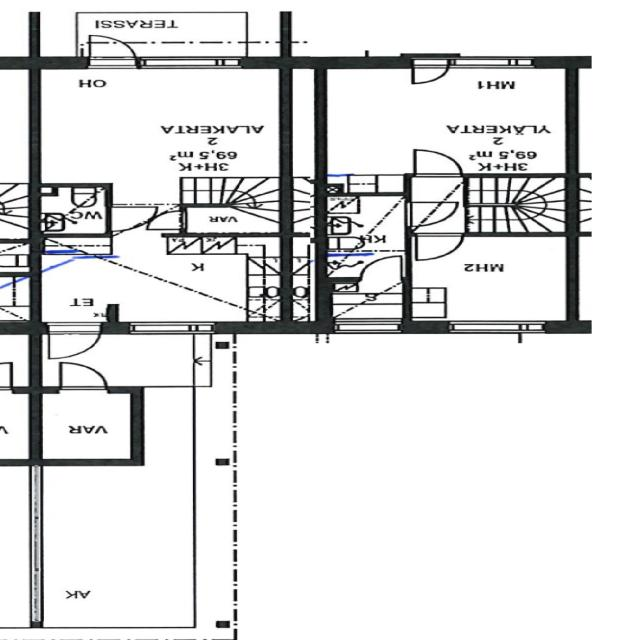door: (37, 385, 136, 461), (422, 56, 517, 84), (343, 252, 407, 290), (43, 322, 106, 360), (77, 31, 141, 66), (402, 146, 468, 178), (406, 230, 468, 262), (402, 56, 457, 90), (403, 196, 458, 229), (54, 360, 113, 390)
window: (136, 53, 248, 73), (444, 52, 544, 72), (444, 319, 545, 335), (122, 320, 222, 336), (335, 318, 396, 332)
zone: (36, 62, 284, 190), (316, 61, 575, 176), (33, 237, 295, 327), (408, 235, 572, 327), (36, 388, 136, 462), (323, 194, 404, 252), (41, 183, 109, 235), (182, 206, 282, 236), (344, 251, 408, 291), (324, 173, 406, 194)
